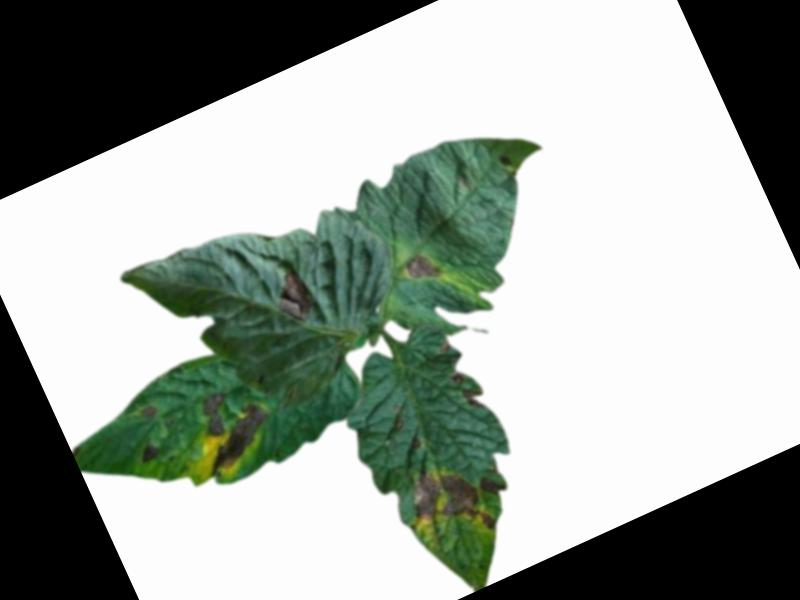Early_blight: (400, 452, 501, 556), (180, 375, 280, 476), (265, 264, 322, 330), (448, 364, 488, 413), (401, 247, 443, 287), (475, 468, 509, 502), (135, 439, 165, 466), (137, 401, 159, 420), (497, 148, 515, 168)
